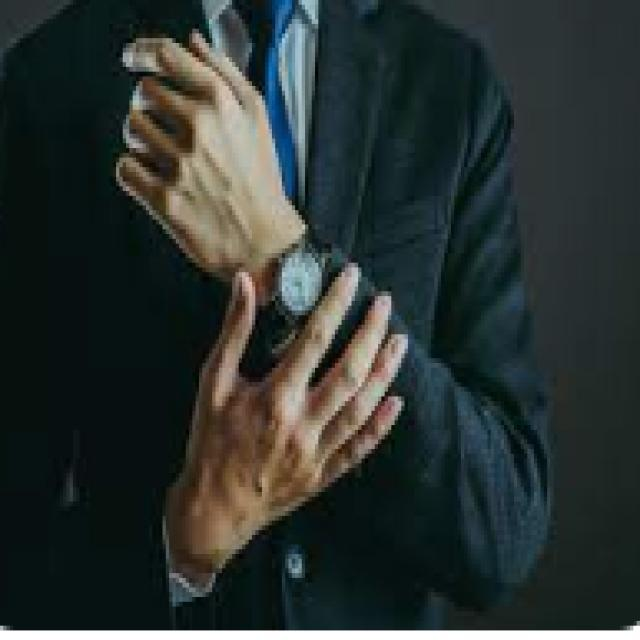Watch: (255, 230, 332, 360)
